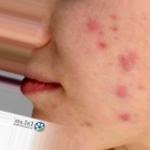Acne: (85, 15, 110, 52), (108, 84, 141, 109), (118, 107, 136, 129), (114, 49, 134, 68)
